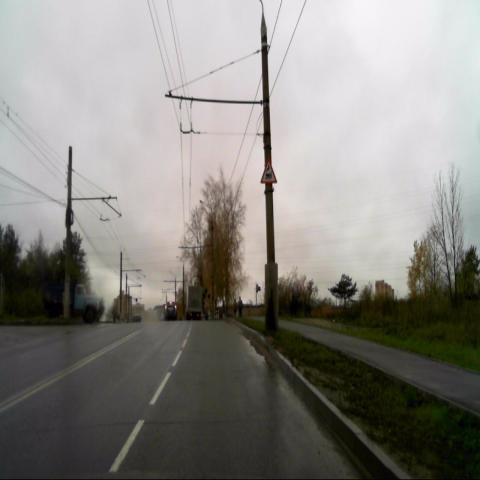1_2: (260, 157, 277, 184)
